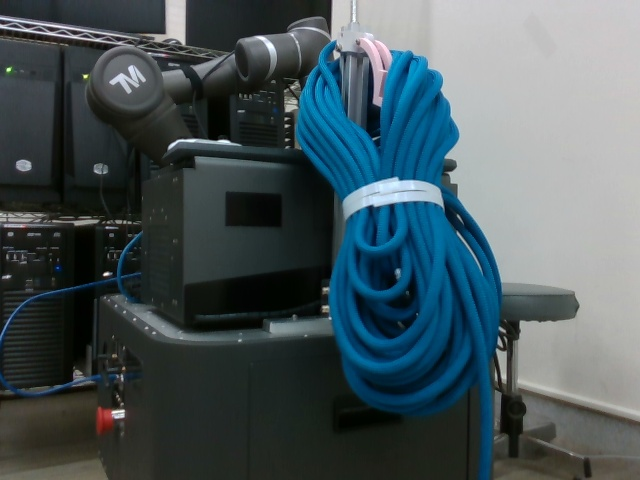rope: (292, 26, 507, 480)
